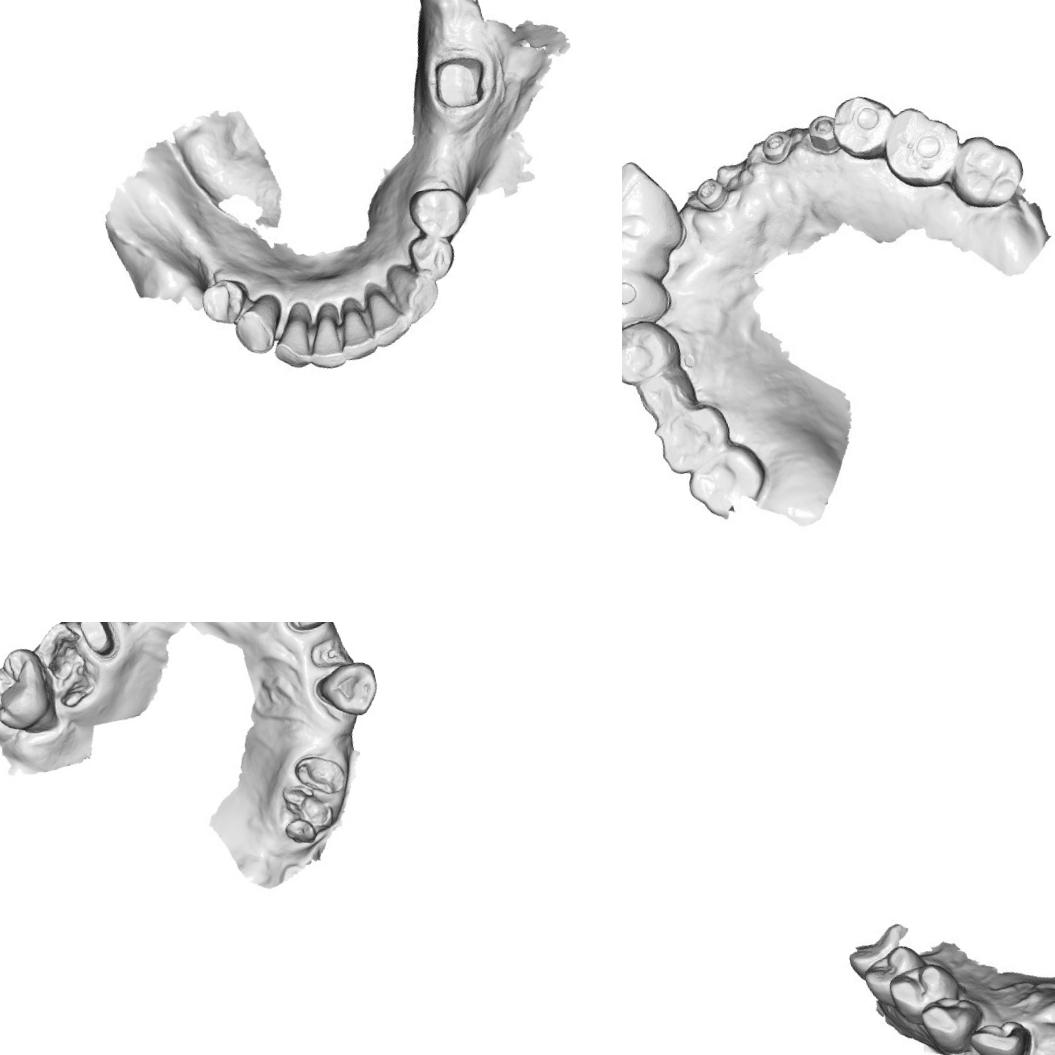canine: (311, 656, 384, 724), (380, 252, 444, 329), (916, 988, 988, 1055), (226, 290, 290, 361), (622, 263, 673, 333)
crown: (424, 42, 495, 116), (74, 622, 122, 666)
implant: (691, 172, 744, 227), (802, 106, 841, 156), (758, 130, 791, 167)
incisor: (622, 156, 687, 261), (295, 296, 351, 376), (328, 291, 382, 369), (264, 304, 321, 374), (622, 214, 670, 289), (364, 287, 414, 350), (964, 1015, 1032, 1055)
molar: (878, 106, 966, 192), (0, 640, 64, 744), (684, 446, 770, 522), (950, 132, 1026, 207), (656, 404, 730, 476)
premolar: (882, 956, 966, 1034), (825, 86, 904, 168), (399, 176, 472, 247), (622, 314, 685, 389), (630, 364, 701, 426), (855, 942, 926, 1004), (192, 268, 254, 328), (404, 230, 463, 286)
